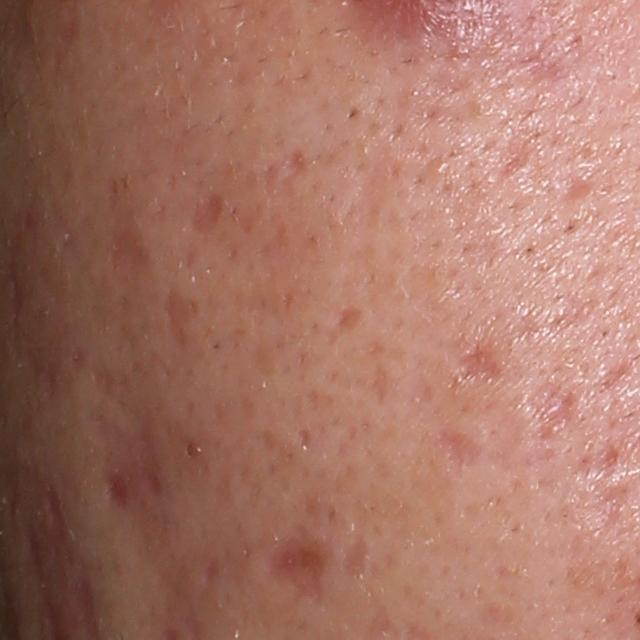atrophic_scar: (257, 532, 324, 614), (523, 376, 576, 443), (448, 340, 503, 388), (160, 287, 200, 353), (336, 528, 376, 584), (435, 431, 487, 473), (191, 190, 227, 240), (552, 173, 596, 210), (323, 305, 363, 343), (104, 469, 133, 511), (602, 359, 635, 394)
comedo: (181, 439, 204, 466)
